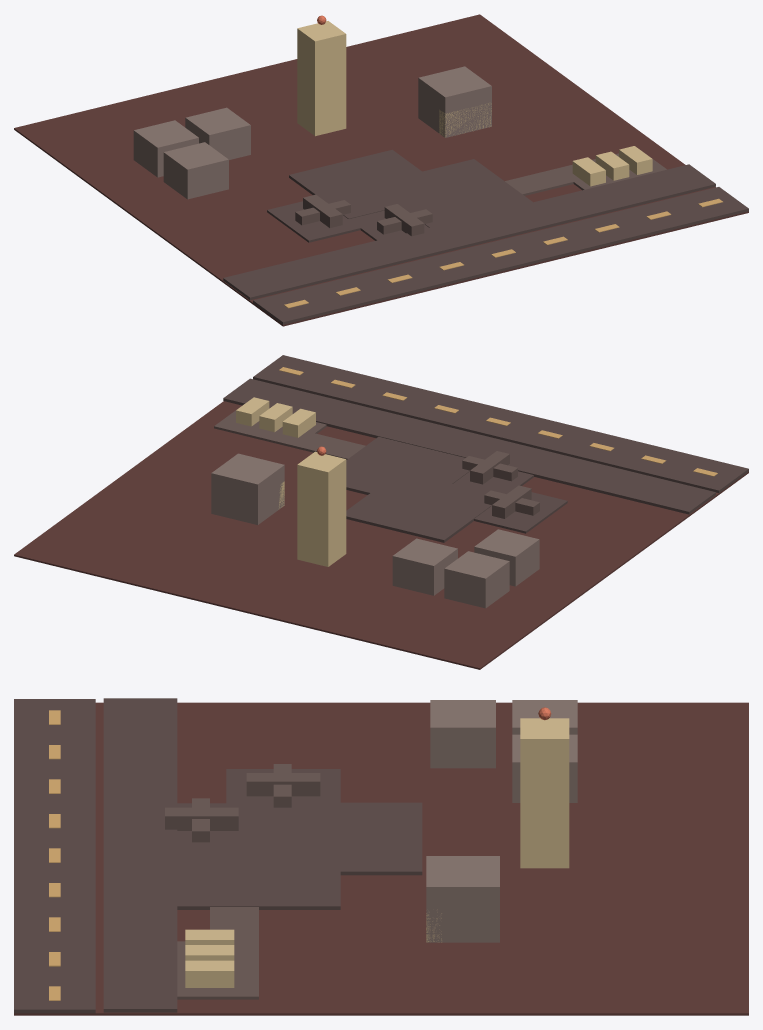
The model's file is stage_12.glb.
3 views of the same model, one above another, from view 1: azimuth 30°, elevation 25°; view 2: azimuth 150°, elevation 25°; view 3: azimuth 270°, elevation 25° (orthographic). The views are drawn at different scales.
Parts seen in each view (by area): view 1: geometry_0; view 2: geometry_0; view 3: geometry_0.
Boxes of the visible parts, bbox=[...] form: geometry_0: bbox=[14, 14, 748, 326]; geometry_0: bbox=[14, 355, 748, 669]; geometry_0: bbox=[14, 698, 748, 1015].
Size of the model in its own units: 9 by 2.06 by 9.
